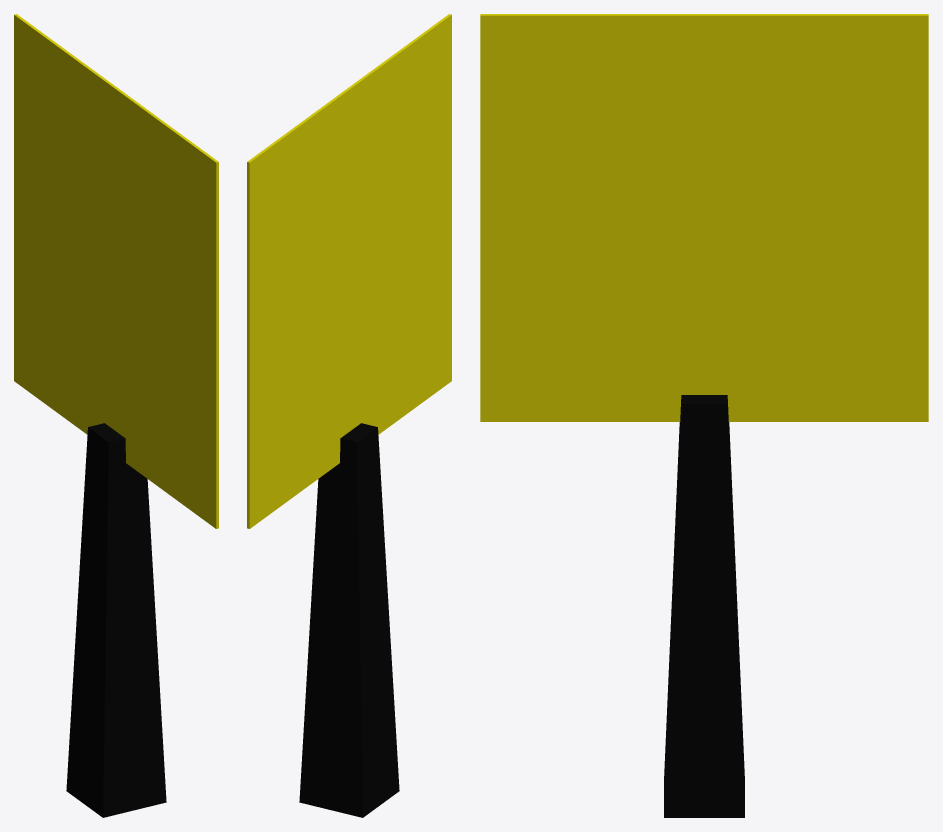
File: сковородень.fbx
The picture shows the model from 3 angles, left to right: view 1: azimuth 30°, elevation 25°; view 2: azimuth 150°, elevation 25°; view 3: azimuth 270°, elevation 25°; orthographic projection. The views are drawn at different scales.
Visible parts, largest first — view 1: Cube.001, Cube; view 2: Cube.001, Cube; view 3: Cube.001, Cube.
Part boxes in pixels (box(x1,y1,x2,y2)): Cube.001: box(14, 14, 218, 528); Cube: box(66, 423, 166, 817); Cube.001: box(247, 14, 451, 528); Cube: box(299, 423, 399, 817); Cube.001: box(480, 14, 928, 421); Cube: box(664, 395, 744, 817).
Size of the model in its own units: 36.26 by 387 by 200.
